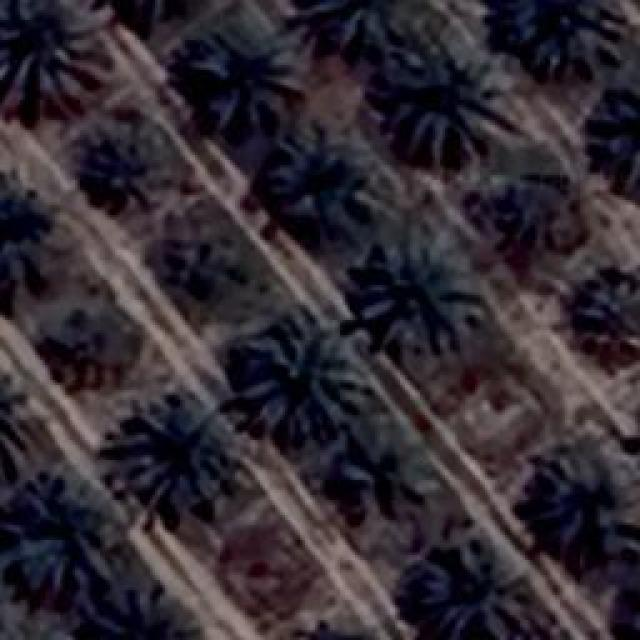PalmTree: (59, 88, 206, 265), (355, 222, 490, 352), (380, 30, 515, 160), (108, 390, 242, 510), (265, 112, 390, 238), (242, 318, 370, 440), (12, 465, 120, 590), (192, 18, 310, 132), (15, 119, 59, 423), (532, 432, 628, 552), (418, 542, 532, 638), (0, 0, 102, 102), (335, 440, 435, 530), (510, 0, 625, 72), (0, 172, 55, 306), (75, 124, 173, 198), (485, 164, 573, 246), (580, 78, 640, 188), (48, 308, 124, 390), (308, 0, 423, 52), (78, 597, 196, 640), (582, 281, 640, 354), (284, 613, 392, 640), (0, 612, 83, 640), (96, 0, 206, 18), (99, 0, 204, 11)
